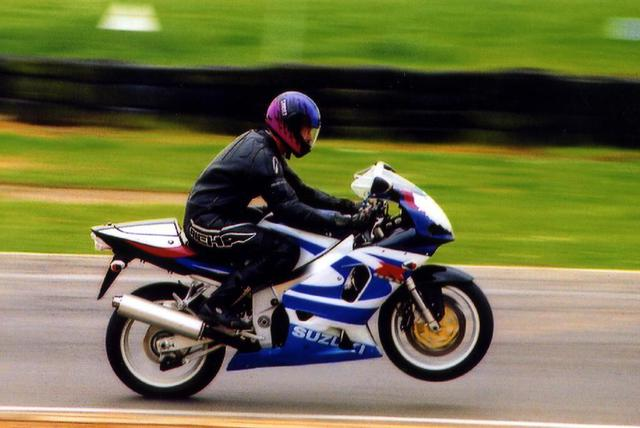helmet: (267, 92, 327, 158)
